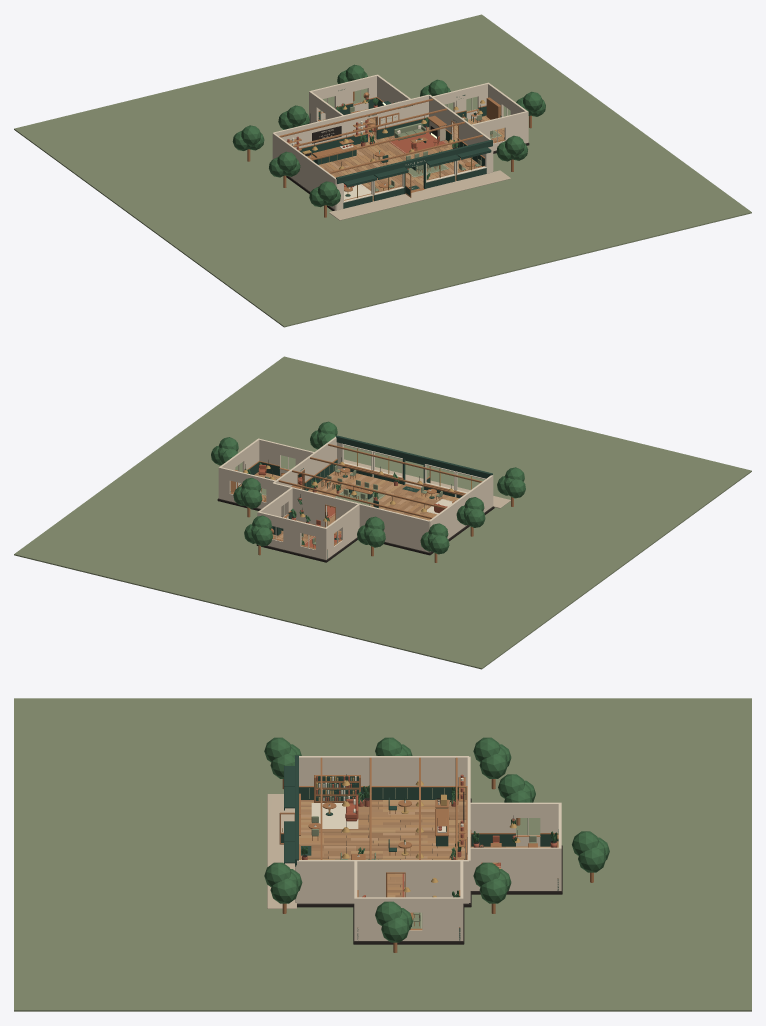
File: cafe.glb
3 views of the same model, one above another, from view 1: azimuth 30°, elevation 25°; view 2: azimuth 150°, elevation 25°; view 3: azimuth 270°, elevation 25° (orthographic). The views are drawn at different scales.
Parts seen in each view (by area): view 1: Garden backdrop, Stone entrance path, Left plaster wall, Wing plaster wall, Maple Bean marquee, Wing plaster wall.001, Wing plaster wall.008, Woven rug; view 2: Garden backdrop, Wing plaster wall, Left plaster wall, Wing plaster wall.001, Maple Bean marquee, Wing plaster wall.003, Stone entrance path, Wing plaster wall.016, Wing plaster wall.012; view 3: Garden backdrop, Left plaster wall, Wing plaster wall.003, Wing plaster wall.013, Wing plaster wall.002, Wing plaster wall.009, Stone entrance path, Wing plaster wall.012, Green wainscot, Wing plaster wall.010, Woven rug.002, Wing plaster wall.011 (+7 smaller).
Boxes of the visible parts, x1,y1,x2,y2 form: Garden backdrop: [14, 14, 751, 327]; Stone entrance path: [329, 170, 510, 220]; Left plaster wall: [272, 133, 336, 210]; Wing plaster wall: [273, 110, 367, 148]; Maple Bean marquee: [336, 139, 492, 183]; Wing plaster wall.001: [376, 94, 428, 138]; Wing plaster wall.008: [504, 111, 528, 143]; Woven rug: [387, 129, 446, 153]; Garden backdrop: [14, 356, 751, 669]; Wing plaster wall: [335, 498, 429, 552]; Left plaster wall: [429, 475, 493, 552]; Wing plaster wall.001: [273, 483, 326, 526]; Maple Bean marquee: [336, 435, 492, 478]; Wing plaster wall.003: [303, 436, 336, 489]; Stone entrance path: [344, 459, 510, 508]; Wing plaster wall.016: [283, 518, 301, 553]; Wing plaster wall.012: [341, 504, 359, 547]; Garden backdrop: [14, 698, 751, 1011]; Left plaster wall: [299, 756, 468, 785]; Wing plaster wall.003: [297, 860, 387, 903]; Wing plaster wall.013: [501, 847, 559, 890]; Wing plaster wall.002: [404, 860, 468, 903]; Wing plaster wall.009: [422, 897, 461, 940]; Stone entrance path: [267, 794, 296, 908]; Wing plaster wall.012: [470, 802, 515, 832]; Green wainscot: [299, 787, 466, 799]; Wing plaster wall.010: [356, 897, 397, 940]; Woven rug.002: [311, 803, 358, 828]; Wing plaster wall.011: [540, 802, 559, 832].
Bounding box in the file's own units: 60 × 4.93 × 60.
